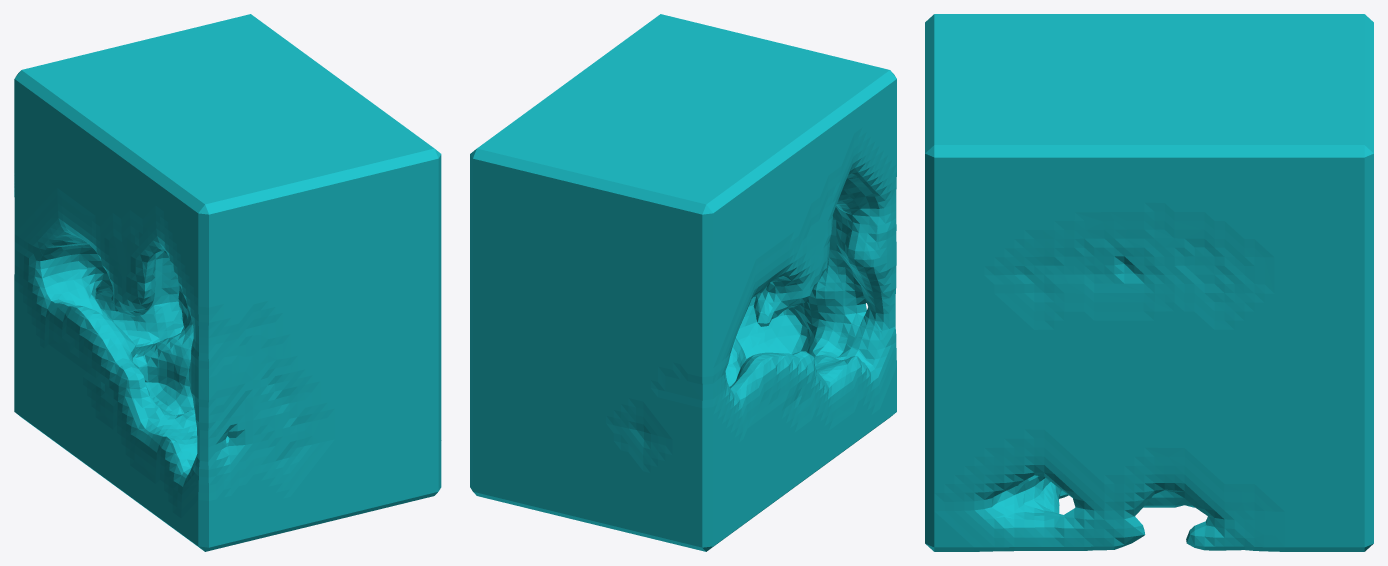
The picture shows the model from 3 angles, left to right: view 1: azimuth 30°, elevation 25°; view 2: azimuth 150°, elevation 25°; view 3: azimuth 270°, elevation 25°; orthographic projection. The views are drawn at different scales.
Parts seen in each view (by area): view 1: Liquid_Domain; view 2: Liquid_Domain; view 3: Liquid_Domain.
Part boxes in pixels (left/top/right/bottom): Liquid_Domain: left=14, top=14, right=441, bottom=551; Liquid_Domain: left=470, top=14, right=896, bottom=551; Liquid_Domain: left=925, top=14, right=1373, bottom=551.
Size of the model in its own units: 79.09 by 108 by 108.
